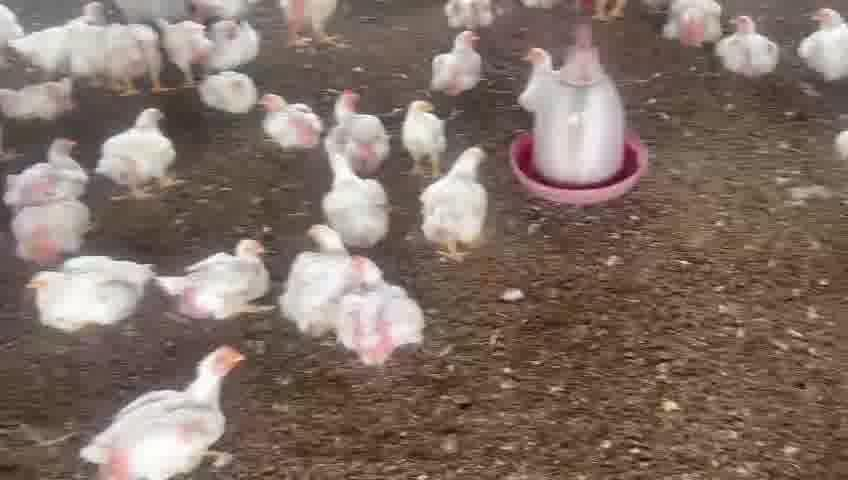Normal: (82, 344, 260, 480), (14, 255, 155, 350), (331, 254, 424, 365), (173, 235, 278, 329), (96, 108, 190, 210), (421, 144, 495, 256), (0, 131, 95, 211), (315, 79, 390, 176), (324, 145, 396, 246), (284, 228, 350, 338), (14, 180, 98, 265), (0, 76, 91, 146), (400, 96, 471, 178), (146, 19, 213, 86), (428, 33, 491, 104), (256, 89, 321, 156), (721, 13, 785, 80), (199, 71, 279, 119), (806, 8, 848, 85)
